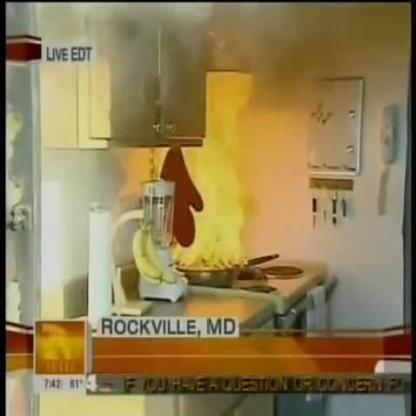fire: (148, 74, 263, 271)
